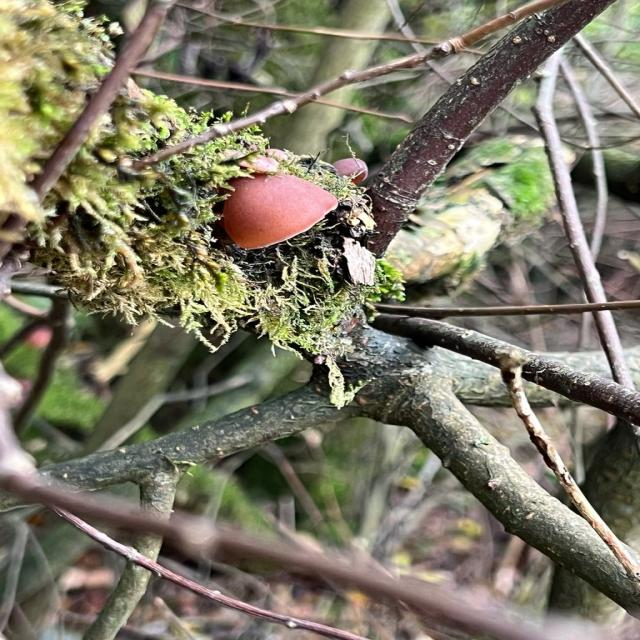Matang: (225, 169, 343, 258), (334, 156, 372, 185)
